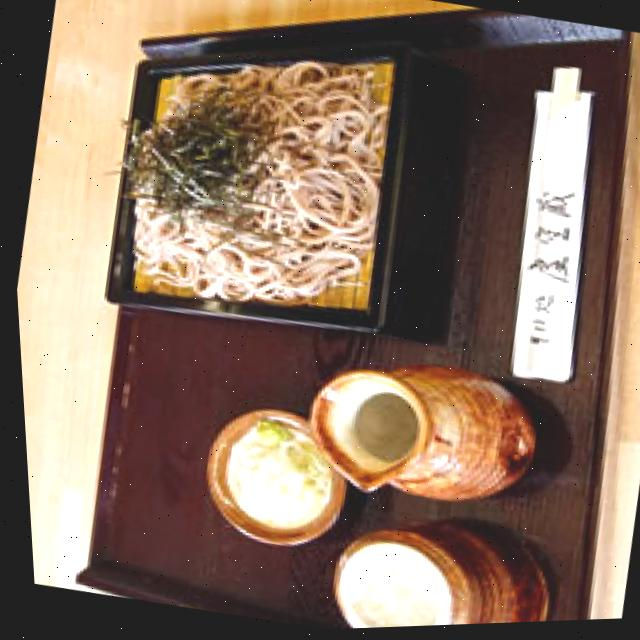面条主食: (70, 0, 493, 372)
